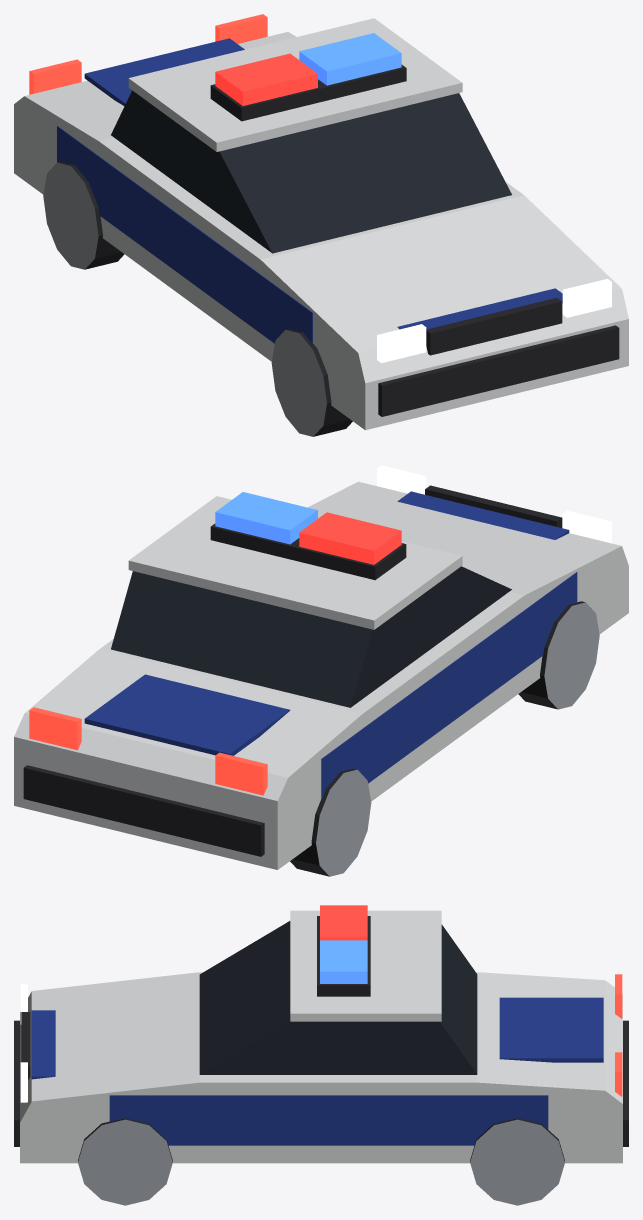
File: police.glb
The picture shows the model from 3 angles, top to bottom: view 1: azimuth 30°, elevation 25°; view 2: azimuth 150°, elevation 25°; view 3: azimuth 270°, elevation 25°; orthographic projection. The views are drawn at different scales.
Parts seen in each view (by area): view 1: police, wheel_FR, wheel_RR; view 2: police, wheel_RR, wheel_FR; view 3: police, wheel_FL, wheel_RL.
Boxes of the visible parts, bbox=[...] form: police: bbox=[14, 14, 628, 430]; wheel_FR: bbox=[271, 329, 352, 436]; wheel_RR: bbox=[43, 161, 124, 269]; police: bbox=[14, 465, 628, 869]; wheel_RR: bbox=[290, 768, 371, 876]; wheel_FR: bbox=[518, 601, 599, 709]; police: bbox=[14, 905, 628, 1163]; wheel_FL: bbox=[78, 1118, 172, 1205]; wheel_RL: bbox=[470, 1118, 564, 1205].
Bounding box in the file's own units: 1.82 × 1.56 × 4.14.
